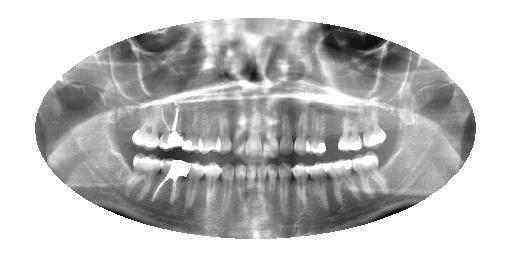i10healthy: (235, 158, 245, 215)
i11healthy: (221, 159, 233, 213)
i12healthy: (204, 159, 222, 211)
i13healthy: (185, 156, 204, 208)
i14healthy: (154, 157, 189, 205)
i15healthy: (130, 152, 163, 199)
i16loss: (107, 150, 132, 187)
i1loss: (382, 147, 401, 187)
i2healthy: (353, 152, 381, 198)
i3healthy: (325, 157, 356, 208)
i4healthy: (312, 159, 329, 211)
i5healthy: (292, 161, 311, 209)
i6decay: (277, 161, 292, 215)
i7decay: (266, 159, 277, 213)
i8healthy: (256, 158, 266, 220)
i9healthy: (244, 159, 256, 217)
u10healthy: (233, 103, 245, 155)
u11decay: (217, 103, 231, 156)
u12healthy: (200, 103, 218, 157)
u13healthy: (184, 103, 201, 157)
u14healthy: (158, 103, 184, 152)
u15healthy: (132, 103, 159, 148)
u16loss: (114, 102, 133, 146)
u1loss: (388, 105, 406, 145)
u2healthy: (361, 104, 386, 149)
u3healthy: (337, 104, 363, 151)
u4loss: (326, 106, 342, 157)
u5healthy: (306, 103, 328, 157)
u6loss: (293, 99, 309, 159)
u7loss: (279, 100, 296, 158)
u8healthy: (264, 101, 282, 157)
u9healthy: (245, 101, 263, 159)
